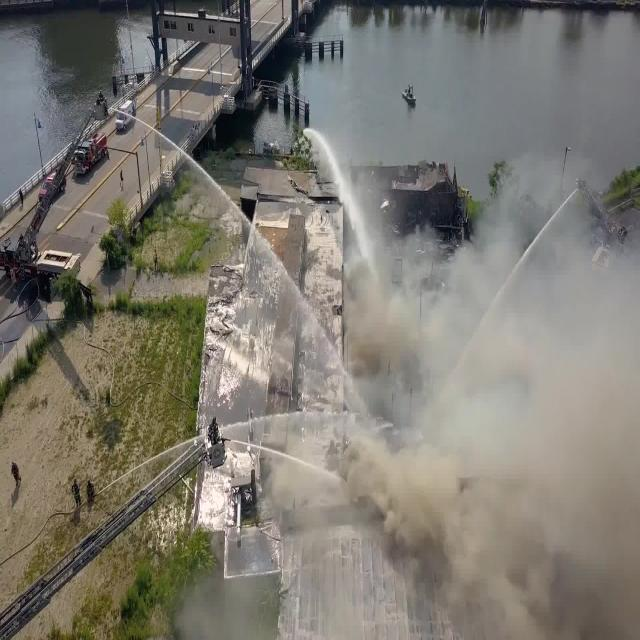smoke: (448, 223, 640, 640), (290, 439, 442, 554), (360, 280, 437, 417)
